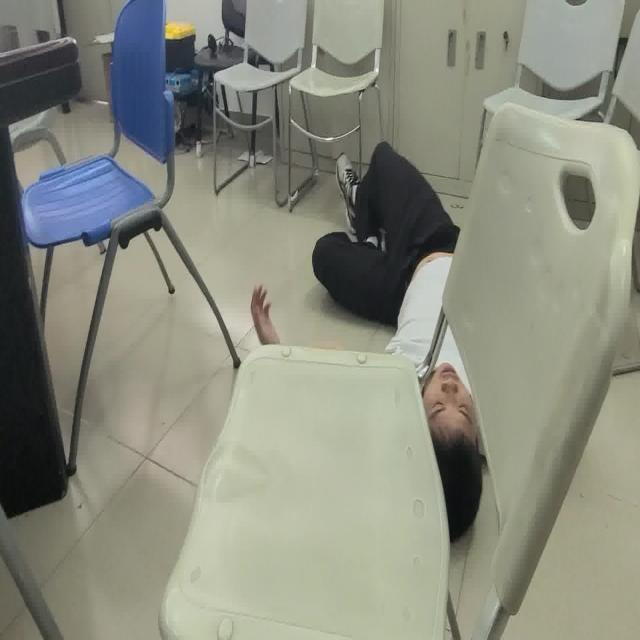fall: (246, 134, 504, 532)
